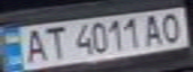0: (90, 19, 112, 54)
1: (121, 16, 145, 48), (106, 16, 127, 52)
4: (69, 20, 93, 56)
A: (18, 26, 51, 64), (139, 11, 169, 46)
O: (157, 10, 187, 44)
T: (39, 24, 69, 61)
